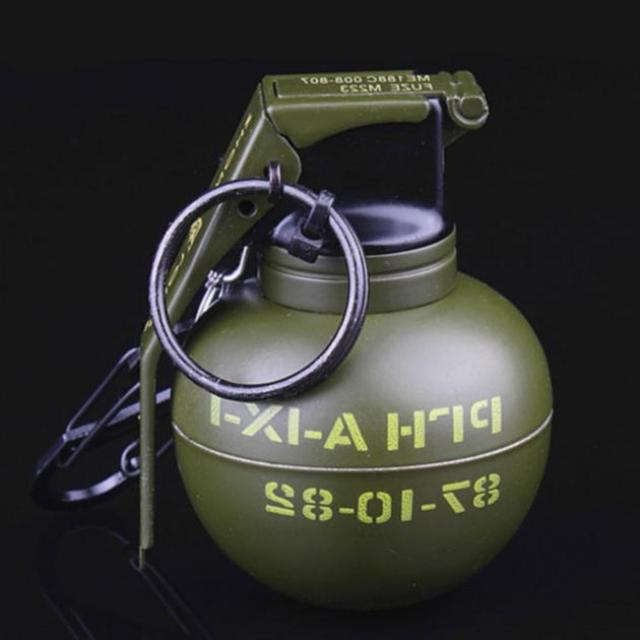grenade: (135, 73, 555, 624)
